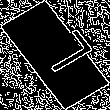L_SW: (21, 28, 89, 82)
